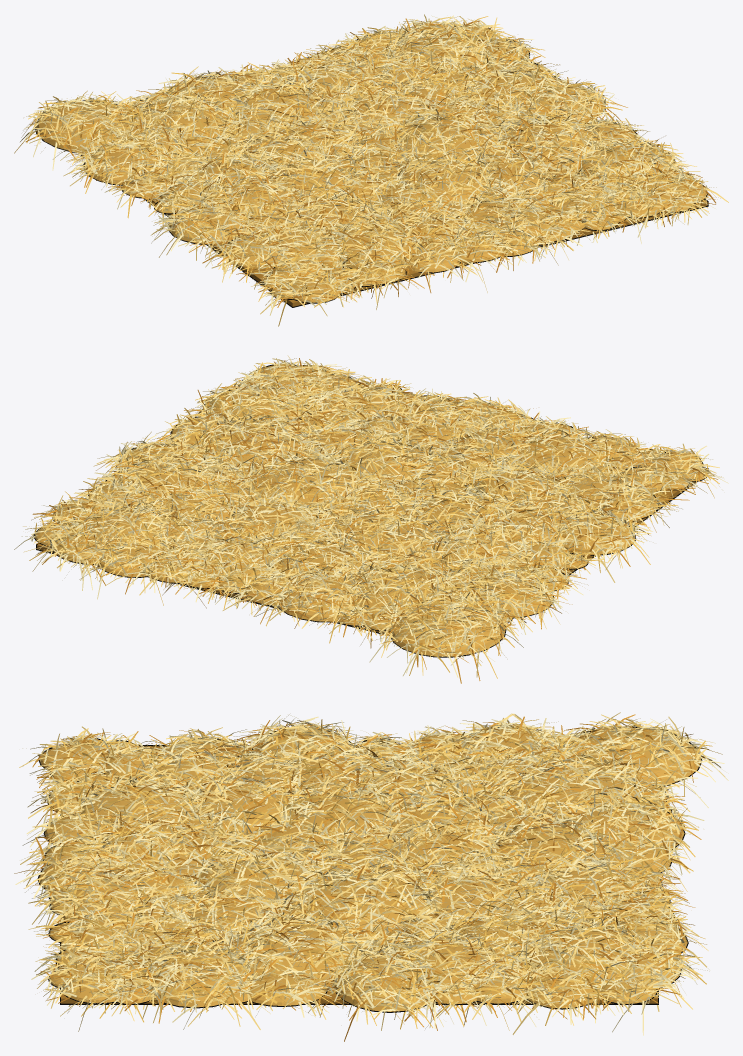
File: einstreu-stroh.glb
3 views of the same model, one above another, from view 1: azimuth 30°, elevation 25°; view 2: azimuth 150°, elevation 25°; view 3: azimuth 270°, elevation 25° (orthographic). The views are drawn at different scales.
Visible parts, largest first — view 1: stroh_haufen_62_halme, stroh_haufen_100_halme, stroh_haufen_46_halme, stroh_haufen_76_halme, stroh_haufen_35_halme, stroh_haufen_115_halme, stroh_haufen_129_halme, stroh_haufen_139_halme, stroh_haufen_54_halme, stroh_haufen_112_halme, stroh_haufen_18_halme, stroh_haufen_57_halme (+99 smaller); view 2: stroh_haufen_100_halme, stroh_haufen_62_halme, stroh_haufen_46_halme, stroh_haufen_76_halme, stroh_haufen_26_halme, stroh_haufen_115_halme, stroh_haufen_129_halme, stroh_haufen_139_halme, stroh_haufen_54_halme, stroh_haufen_112_halme, stroh_haufen_18_halme, stroh_haufen_35_halme (+95 smaller); view 3: stroh_haufen_62_halme, stroh_haufen_46_halme, stroh_haufen_100_halme, stroh_haufen_129_halme, stroh_haufen_57_halme, stroh_haufen_76_halme, stroh_haufen_115_halme, stroh_haufen_120_halme, stroh_haufen_112_halme, stroh_haufen_35_halme, stroh_haufen_26_halme, stroh_haufen_145_halme (+115 smaller).
Boxes of the visible parts, x1,y1,x2,y2 form: stroh_haufen_62_halme: (376, 109, 509, 165); stroh_haufen_100_halme: (14, 90, 145, 180); stroh_haufen_46_halme: (489, 110, 613, 175); stroh_haufen_76_halme: (125, 85, 244, 147); stroh_haufen_35_halme: (316, 213, 438, 285); stroh_haufen_115_halme: (377, 24, 506, 74); stroh_haufen_129_halme: (559, 131, 696, 182); stroh_haufen_139_halme: (150, 193, 265, 271); stroh_haufen_54_halme: (63, 135, 190, 195); stroh_haufen_112_halme: (385, 147, 508, 206); stroh_haufen_18_halme: (190, 166, 318, 224); stroh_haufen_57_halme: (501, 77, 627, 122); stroh_haufen_100_halme: (369, 592, 523, 683); stroh_haufen_62_halme: (235, 444, 372, 508); stroh_haufen_46_halme: (181, 411, 325, 469); stroh_haufen_76_halme: (324, 554, 470, 641); stroh_haufen_26_halme: (255, 563, 380, 643); stroh_haufen_115_halme: (59, 497, 192, 592); stroh_haufen_129_halme: (185, 375, 318, 426); stroh_haufen_139_halme: (541, 503, 653, 582); stroh_haufen_54_halme: (457, 564, 572, 634); stroh_haufen_112_halme: (324, 433, 442, 486); stroh_haufen_18_halme: (461, 493, 587, 552); stroh_haufen_35_halme: (490, 428, 627, 477); stroh_haufen_62_halme: (272, 860, 442, 939); stroh_haufen_46_halme: (212, 908, 373, 1009); stroh_haufen_100_halme: (545, 712, 728, 807); stroh_haufen_129_halme: (111, 935, 270, 1029); stroh_haufen_57_halme: (307, 941, 462, 1041); stroh_haufen_76_halme: (485, 753, 671, 823); stroh_haufen_115_halme: (503, 913, 682, 1017); stroh_haufen_120_halme: (369, 923, 521, 1029); stroh_haufen_112_halme: (177, 842, 333, 908); stroh_haufen_35_halme: (58, 771, 208, 833); stroh_haufen_26_halme: (545, 788, 704, 877); stroh_haufen_145_halme: (264, 772, 423, 848).
Bounding box in the file's own units: 530 × 48.62 × 530.
